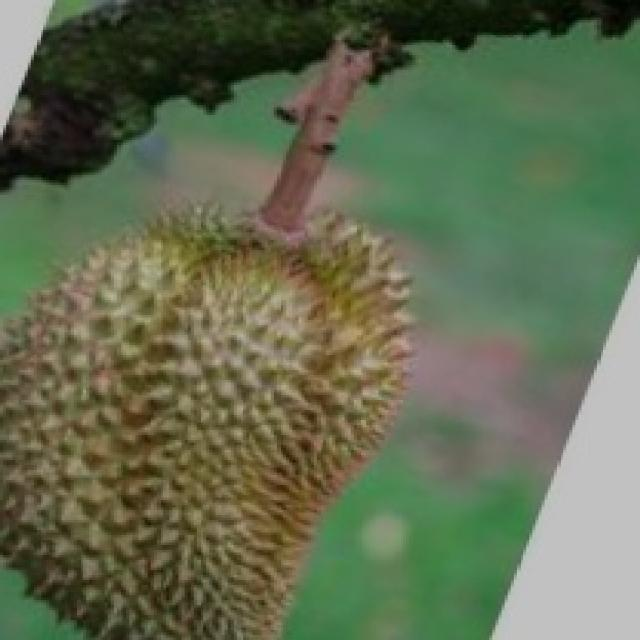fruit: (68, 185, 489, 637)
